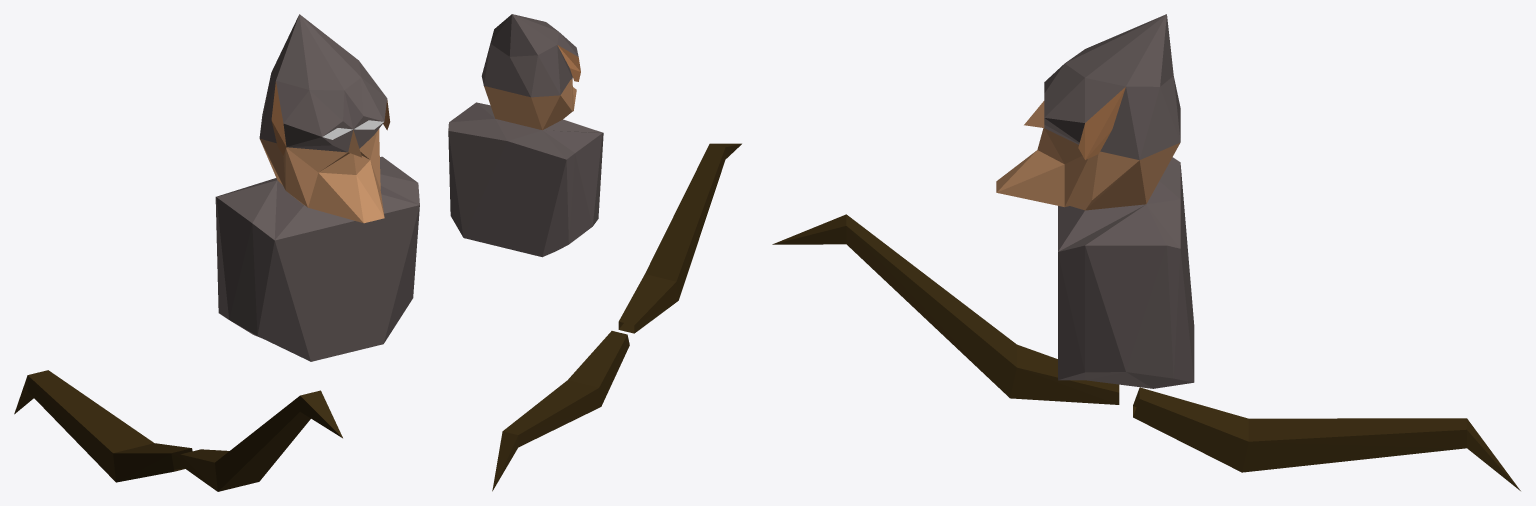
Rendered from model_2903_npc.obj.
3 views of the same model, side by side, from view 1: azimuth 30°, elevation 25°; view 2: azimuth 150°, elevation 25°; view 3: azimuth 270°, elevation 25° (orthographic). The views are drawn at different scales.
Parts seen in each view (by area): view 1: 2903; view 2: 2903; view 3: 2903.
Part boxes in pixels (x1,y1,x2,y2): 2903: (14,14,419,491); 2903: (448,14,741,491); 2903: (772,14,1520,490).
Bounding box in the file's own units: 46 × 89 × 110.
